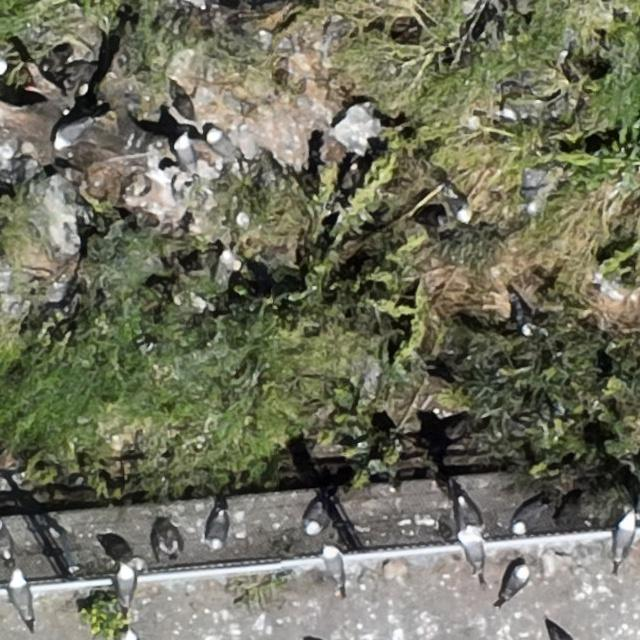umineko: (614, 518, 636, 560), (457, 496, 480, 536), (54, 120, 88, 147), (513, 503, 543, 532), (462, 535, 484, 574), (10, 579, 31, 617), (208, 130, 235, 158), (504, 566, 528, 597), (324, 551, 344, 588), (174, 138, 194, 173), (117, 568, 135, 606), (513, 300, 532, 334), (304, 501, 324, 533), (446, 192, 468, 221), (208, 513, 225, 547), (217, 252, 234, 283), (548, 624, 573, 640), (0, 51, 6, 76)
